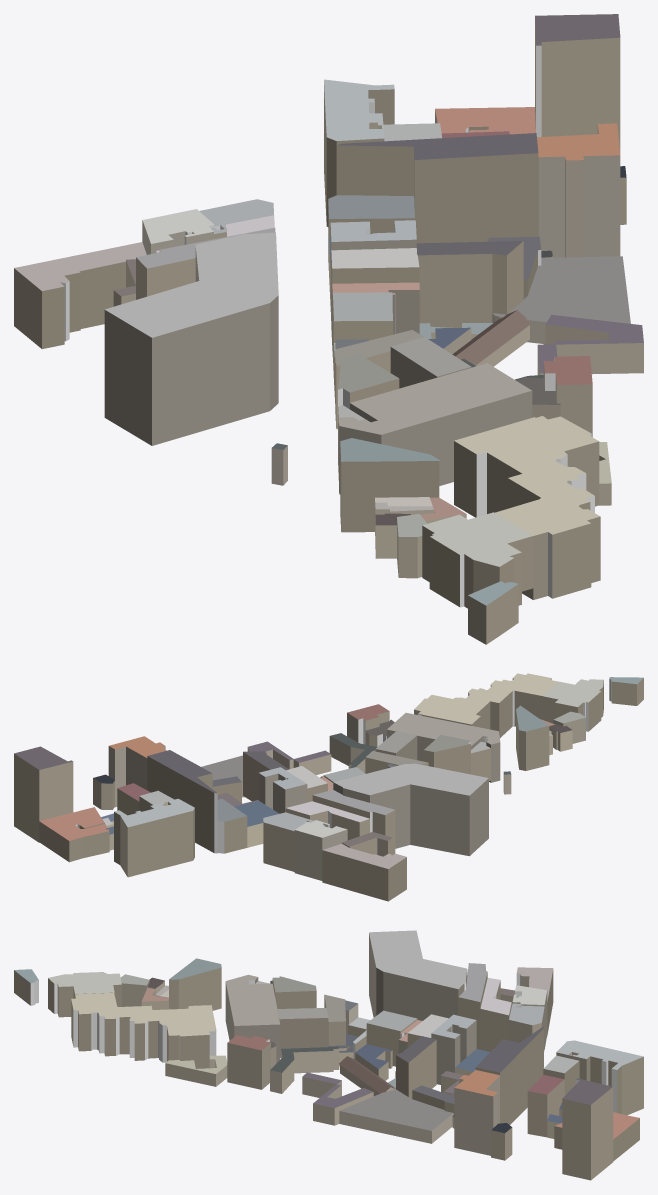
3 renders of one model, top to bottom at view 1: azimuth 30°, elevation 25°; view 2: azimuth 150°, elevation 25°; view 3: azimuth 270°, elevation 25°, orthographic. The views are drawn at different scales.
Visible parts, largest first — view 1: tuile; view 2: tuile; view 3: tuile.
Boxes of the visible parts, x1,y1,x2,y2 form: tuile: [14, 14, 643, 644]; tuile: [14, 673, 643, 901]; tuile: [14, 930, 643, 1180].
Bounding box in the file's own units: 172 × 32.94 × 244.
